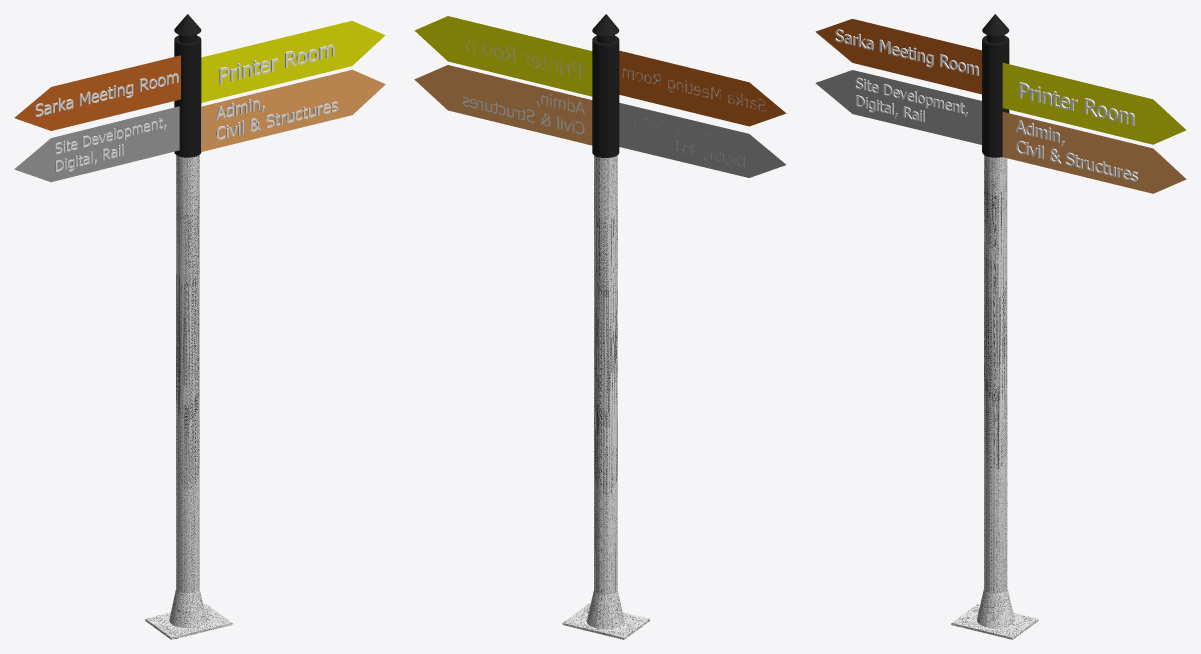
3 renders of one model, left to right at view 1: azimuth 30°, elevation 25°; view 2: azimuth 150°, elevation 25°; view 3: azimuth 330°, elevation 25°, orthographic.
Visible parts, largest first — view 1: SketchUp (×4), group_0, group_1; view 2: SketchUp (×4), group_0, group_1; view 3: SketchUp (×4), group_0, group_1.
Part boxes in pixels (x1=…): SketchUp (×4): x1=14, y1=21, x2=385, y2=639; group_0: x1=201, y1=69, x2=385, y2=151; group_1: x1=14, y1=106, x2=179, y2=182; SketchUp (×4): x1=414, y1=16, x2=786, y2=639; group_0: x1=414, y1=65, x2=592, y2=145; group_1: x1=619, y1=103, x2=786, y2=177; SketchUp (×4): x1=815, y1=19, x2=1186, y2=639; group_0: x1=1002, y1=112, x2=1186, y2=193; group_1: x1=815, y1=70, x2=981, y2=144.
Bounding box in the file's own units: 44.41 × 5.38 × 69.44.
